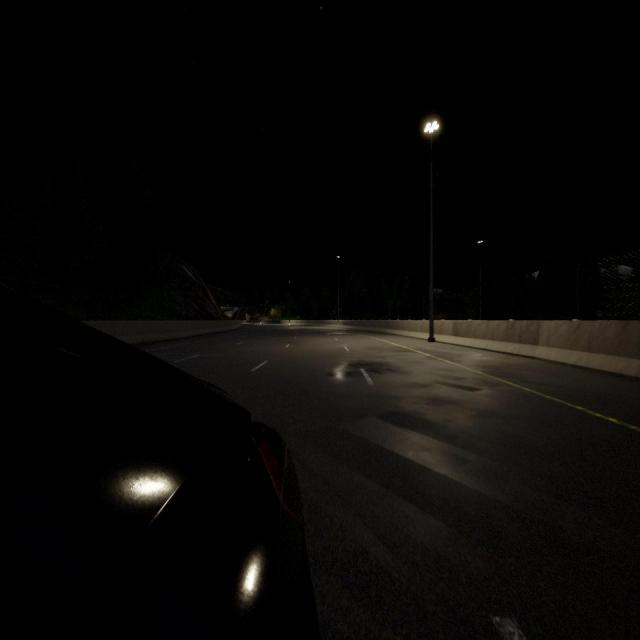Vehicle: (0, 308, 316, 640)
